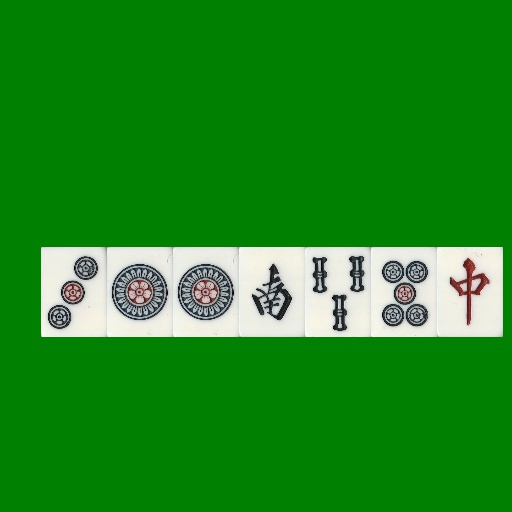1p: (107, 247, 173, 337), (173, 247, 239, 337)
3p: (41, 247, 107, 337)
3s: (305, 247, 371, 337)
5p: (371, 247, 437, 337)
south: (239, 247, 305, 337)
tyun: (437, 247, 503, 337)
